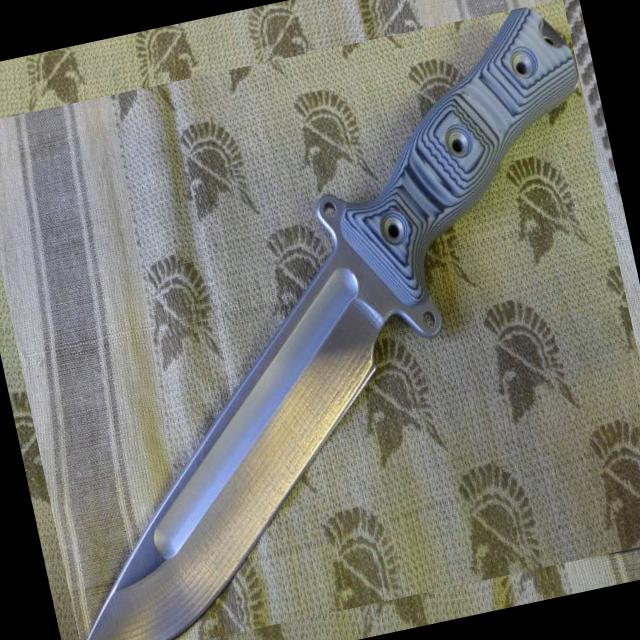Knife: (89, 7, 579, 640)
